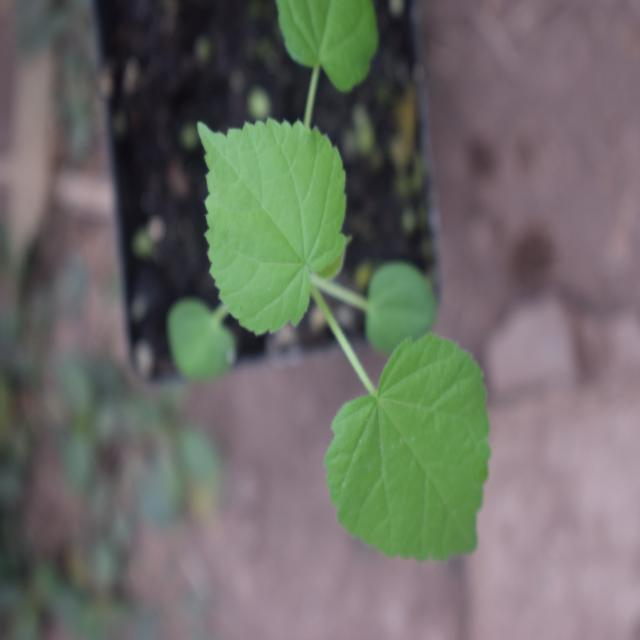abutilon theophrasti: (180, 105, 499, 570)
